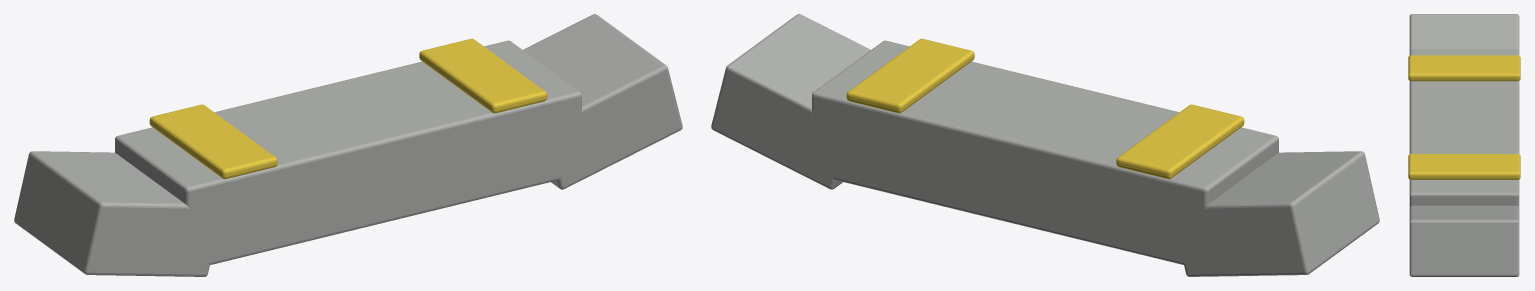
The model's file is concrete-parking-block-01.glb.
The picture shows the model from 3 angles, left to right: view 1: azimuth 30°, elevation 25°; view 2: azimuth 150°, elevation 25°; view 3: azimuth 270°, elevation 25°; orthographic projection. The views are drawn at different scales.
Parts seen in each view (by area): view 1: concrete-parking-block-01; view 2: concrete-parking-block-01; view 3: concrete-parking-block-01.
Part boxes in pixels (x1,y1,x2,y2): concrete-parking-block-01: [14, 14, 682, 276]; concrete-parking-block-01: [711, 14, 1379, 276]; concrete-parking-block-01: [1408, 14, 1520, 276].
Size of the model in its own units: 0.7539 by 0.1246 by 0.164.
